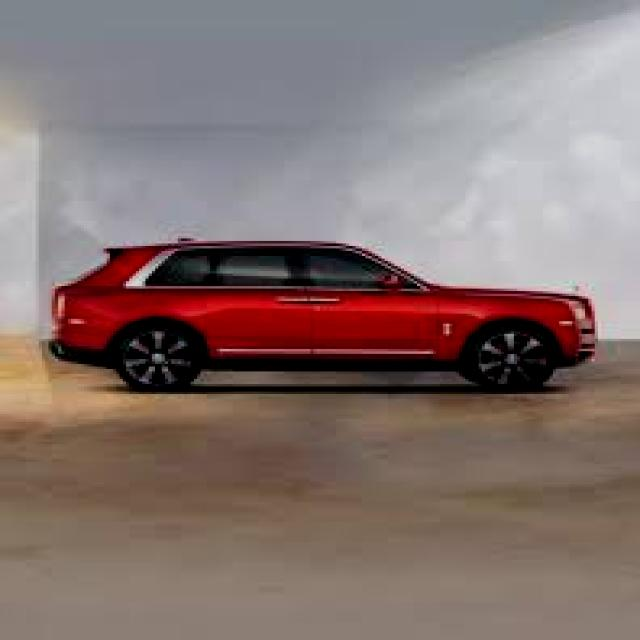SUV: (54, 240, 598, 394)
